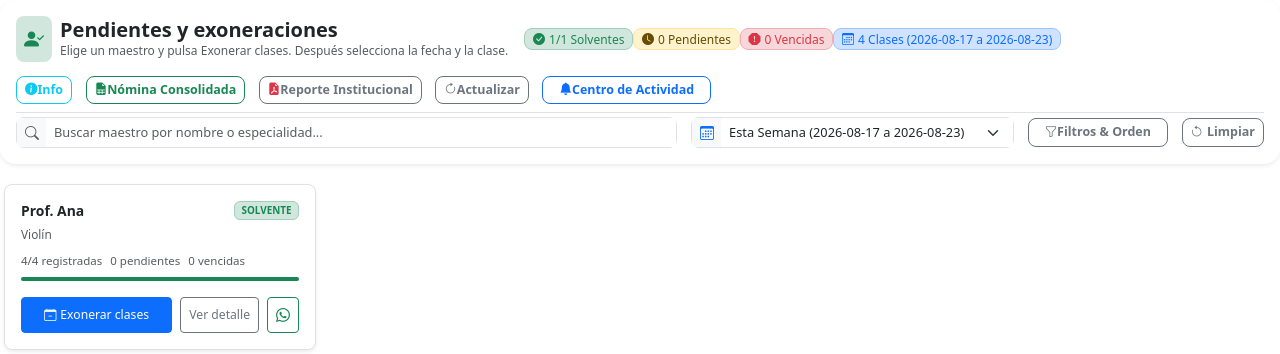
it: CumplimientoMaestrosWidget — Reporte Institucional › el botón de cerrar oculta el panel de nuevo
Click the button with id "btnReporteInstitucional". click: click(340, 90)
box: left=259, top=76, right=422, bottom=104
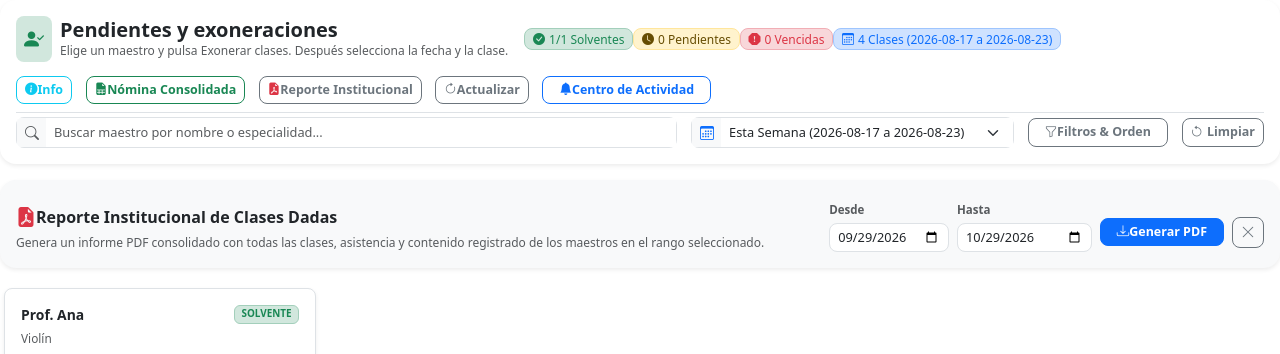
Expected: the element with id "reportePanel" is shown, left=0, top=180, right=1279, bottom=268
Click the button with id "btnCerrarReportePanel". click: click(1248, 232)
box: left=1232, top=216, right=1264, bottom=248
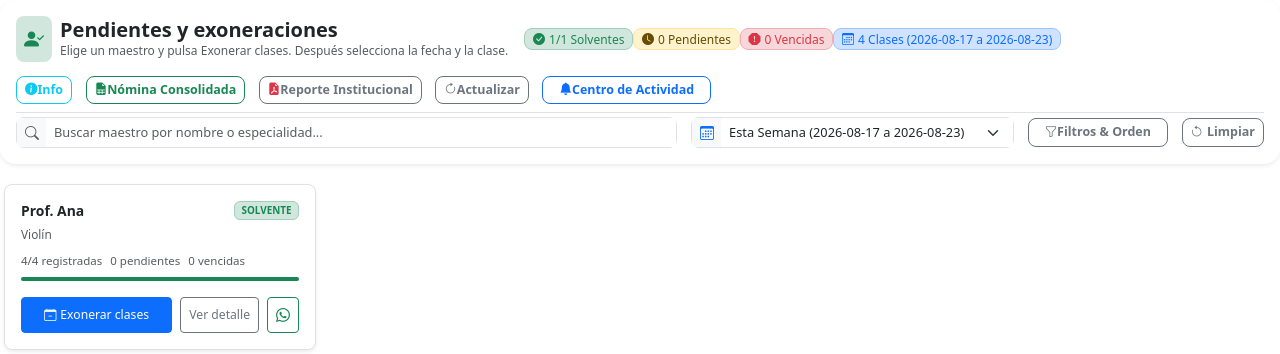
Expected: the element with id "reportePanel" is gone
